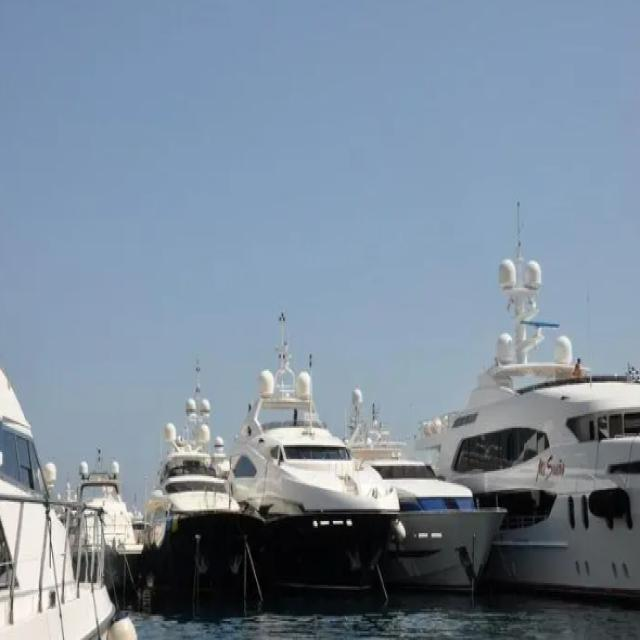houseboat: (415, 309, 640, 600), (235, 322, 396, 576), (342, 379, 502, 587), (151, 372, 254, 602), (64, 447, 144, 579)
